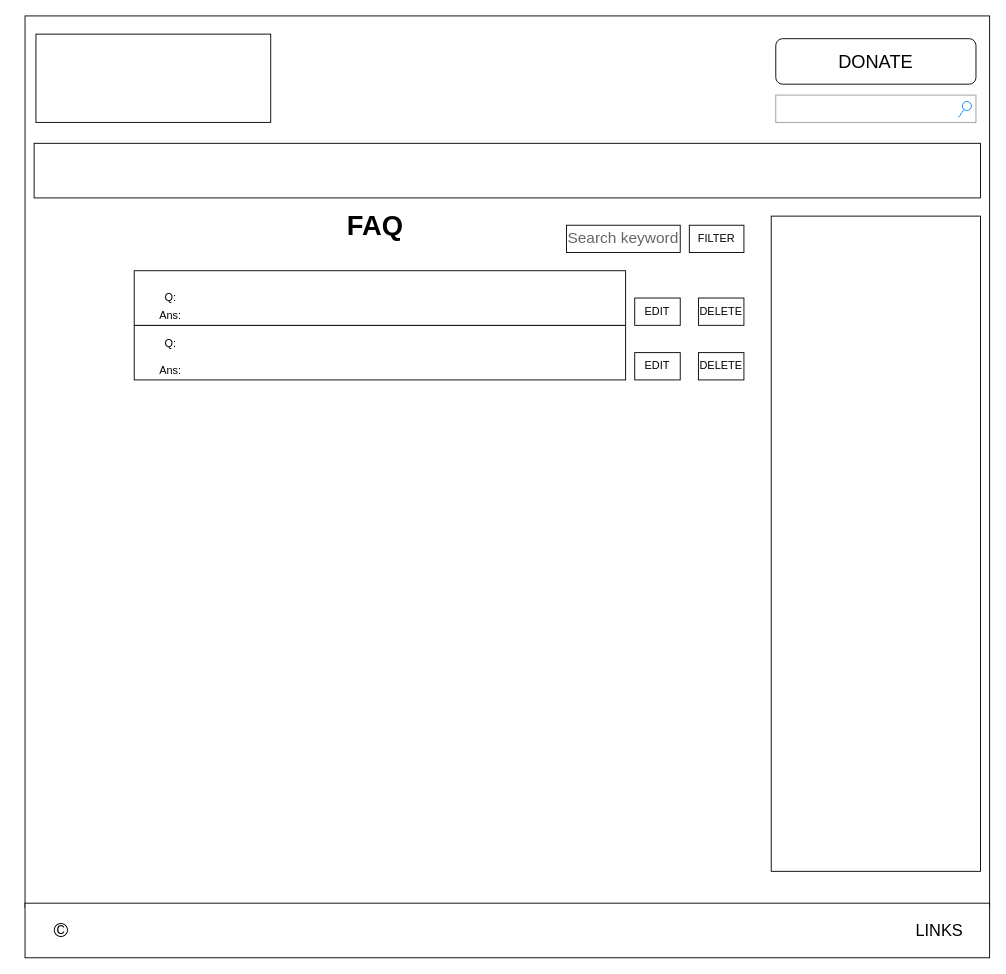
The diagram is 1006 pixels wide and 974 high, and some of its shapes have lost their labels. The box of each missing label's shape, as (x1, y1, x2, y2) in pixels:
LOGO: (35, 33, 271, 122)
NAVIGATION BAR: (33, 142, 981, 198)
Search: (775, 94, 976, 122)
